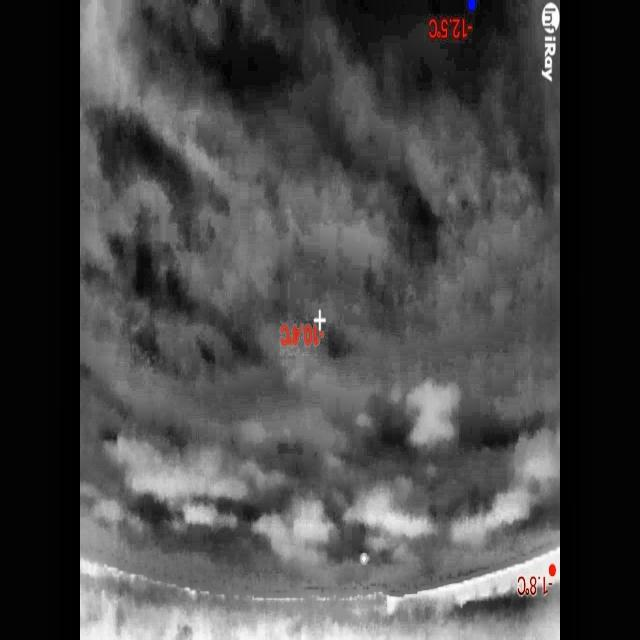drone: (361, 549, 368, 567)
